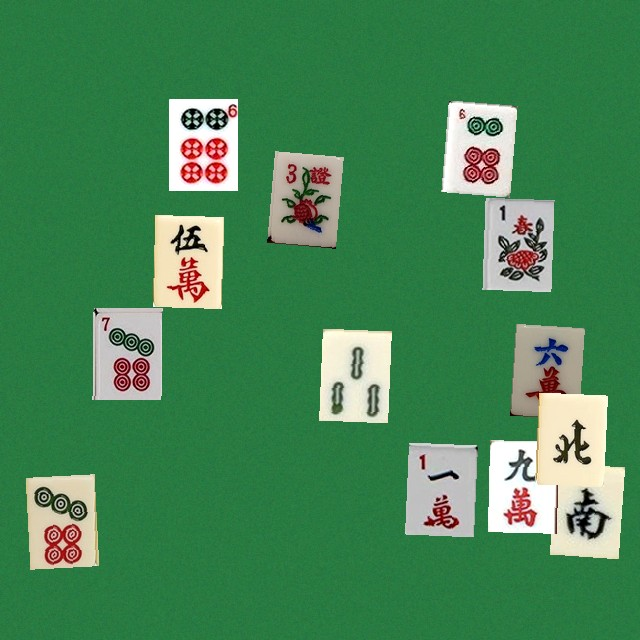tile: (25, 474, 94, 566), (510, 323, 579, 415), (267, 151, 336, 243), (168, 98, 237, 190), (92, 307, 161, 399), (405, 442, 474, 534), (319, 328, 388, 420), (152, 214, 221, 306), (482, 197, 551, 289), (549, 462, 618, 554), (487, 440, 556, 532), (441, 100, 510, 192), (534, 392, 603, 484)
